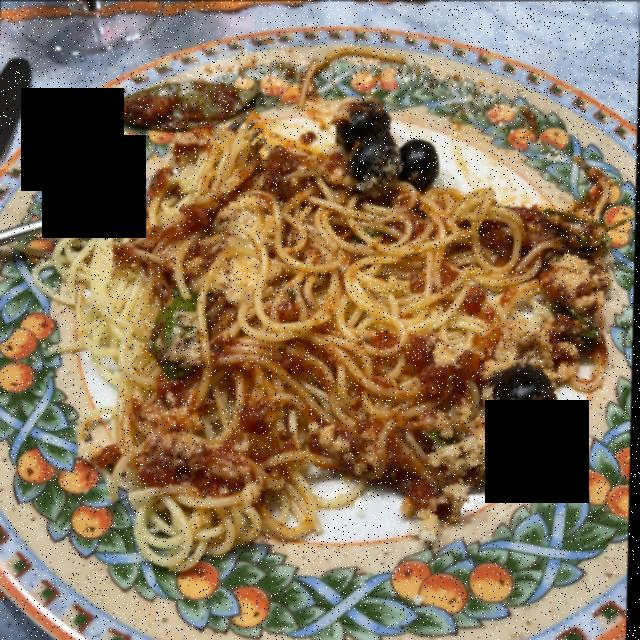basil: (147, 283, 196, 372)
black-olives: (341, 91, 552, 428)
parmesan: (153, 176, 604, 480)
pasta-spaghetti: (69, 115, 588, 556)
